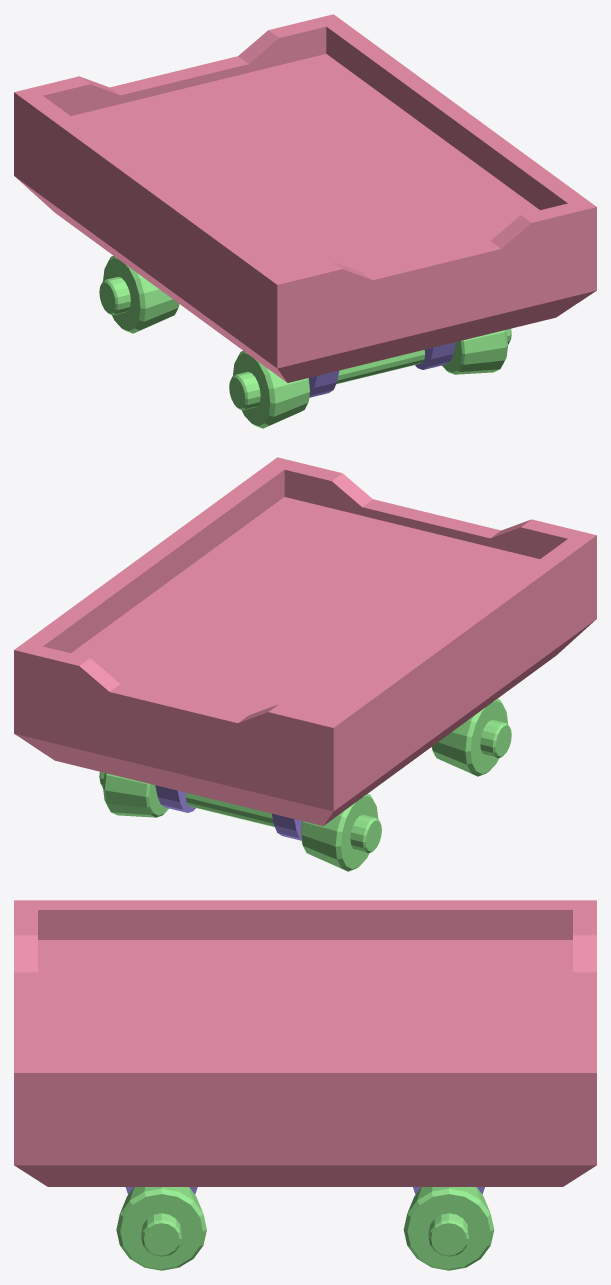
Rendered from car.fbx.
3 renders of one model, top to bottom at view 1: azimuth 30°, elevation 25°; view 2: azimuth 150°, elevation 25°; view 3: azimuth 270°, elevation 25°, orthographic. The views are drawn at different scales.
Visible parts, largest first — view 1: car; view 2: car; view 3: car.
Part boxes in pixels (box(x1,y1,x2,y2)): car: box(14, 14, 596, 428); car: box(14, 457, 596, 871); car: box(14, 900, 596, 1270).
Bounding box in the file's own units: 0.2518 × 0.1509 × 0.3593.
